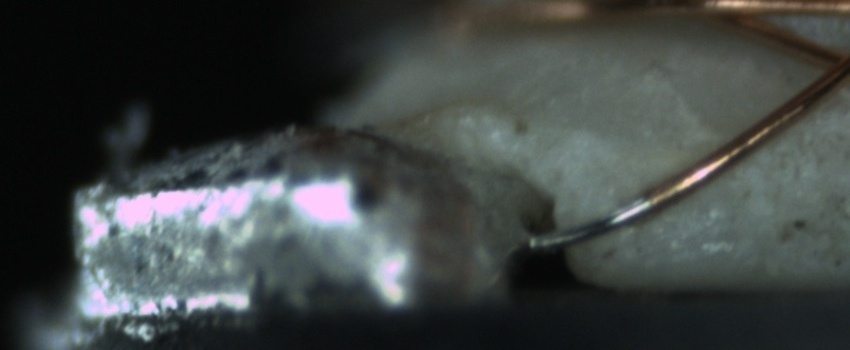CL: (805, 34, 850, 93)
TS: (524, 195, 650, 254)
